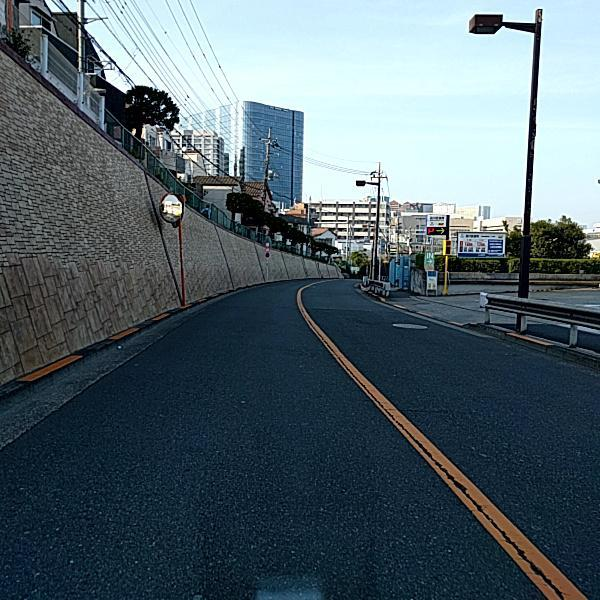D10: (394, 402, 472, 419)
